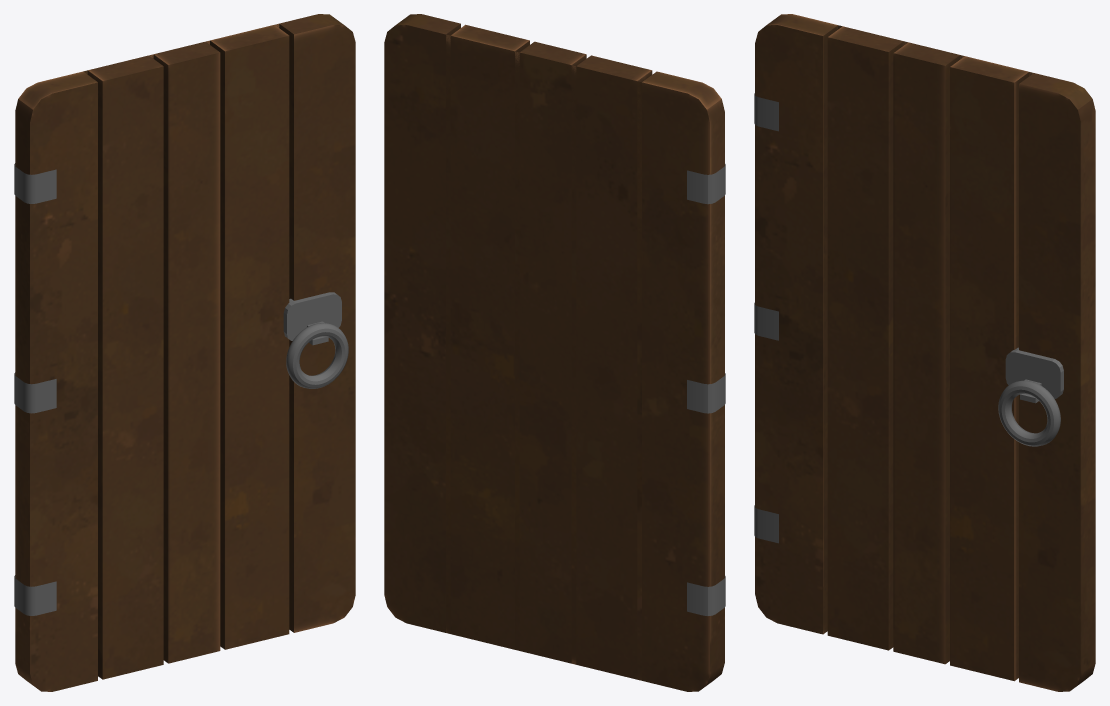
Rendered from Door_Shirine.fbx.
3 views of the same model, side by side, from view 1: azimuth 30°, elevation 25°; view 2: azimuth 150°, elevation 25°; view 3: azimuth 330°, elevation 25° (orthographic).
Parts seen in each view (by area): view 1: Plane.001; view 2: Plane.001; view 3: Plane.001.
Part boxes in pixels (left/top/right/bottom): Plane.001: left=14, top=14, right=355, bottom=691; Plane.001: left=384, top=14, right=725, bottom=691; Plane.001: left=754, top=14, right=1095, bottom=691.
Bounding box in the file's own units: 132 × 230 × 18.26.
